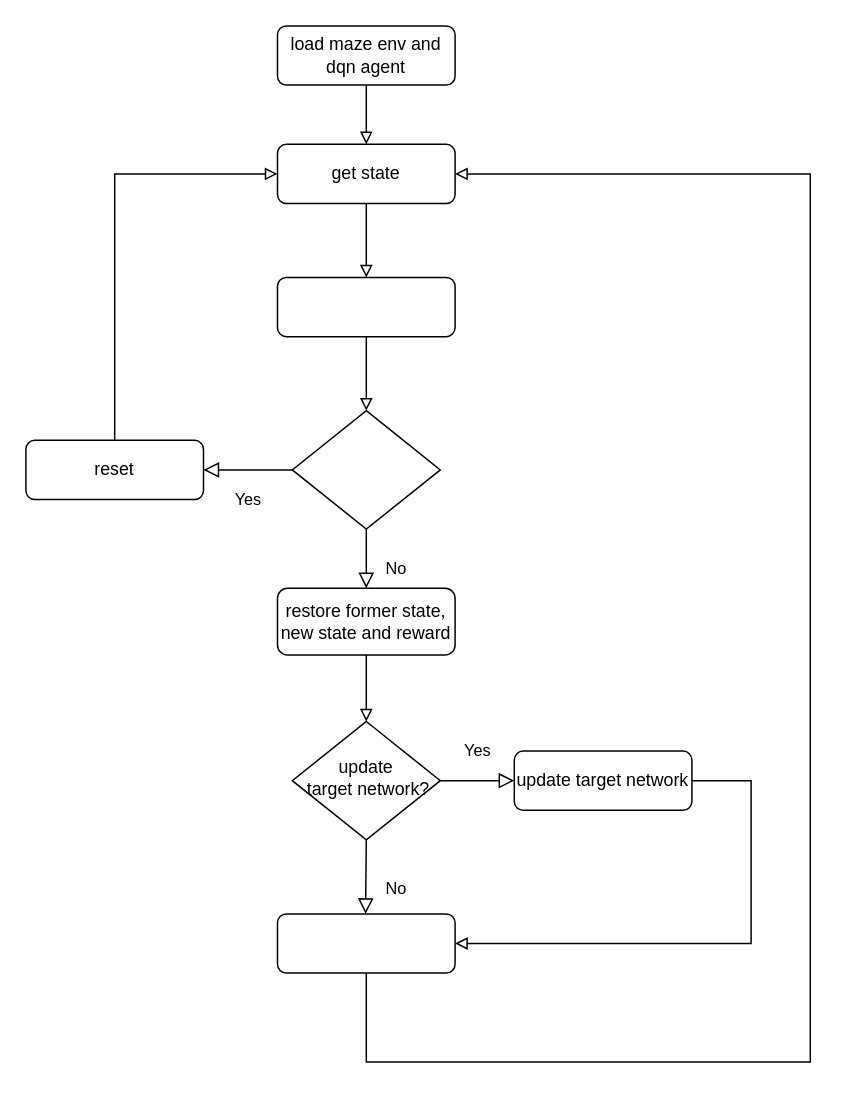
The diagram is 848 pixels wide and 1100 high, and some of its shapes have lost their labels. Here are the shapes that lost their labels. From the top down, the centre of each, then its label:
At pixel 365 306: "choose action".
At pixel 365 469: "done?".
At pixel 365 942: "replay experience and train".
